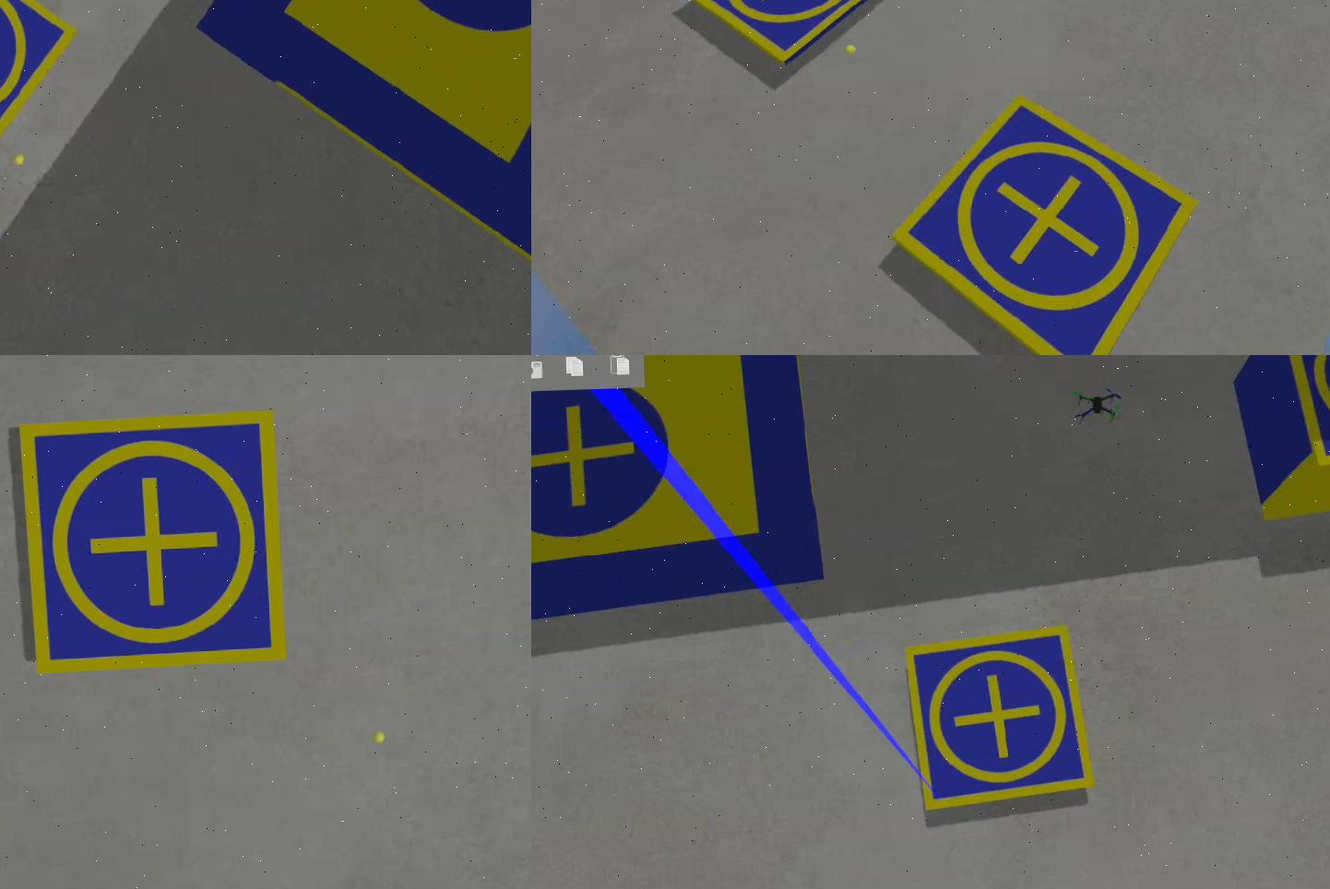large_base: (190, 1, 532, 277), (532, 356, 829, 646)
small_base: (887, 89, 1204, 356), (18, 409, 291, 675), (901, 620, 1101, 819), (675, 1, 908, 70), (1, 1, 85, 185)
